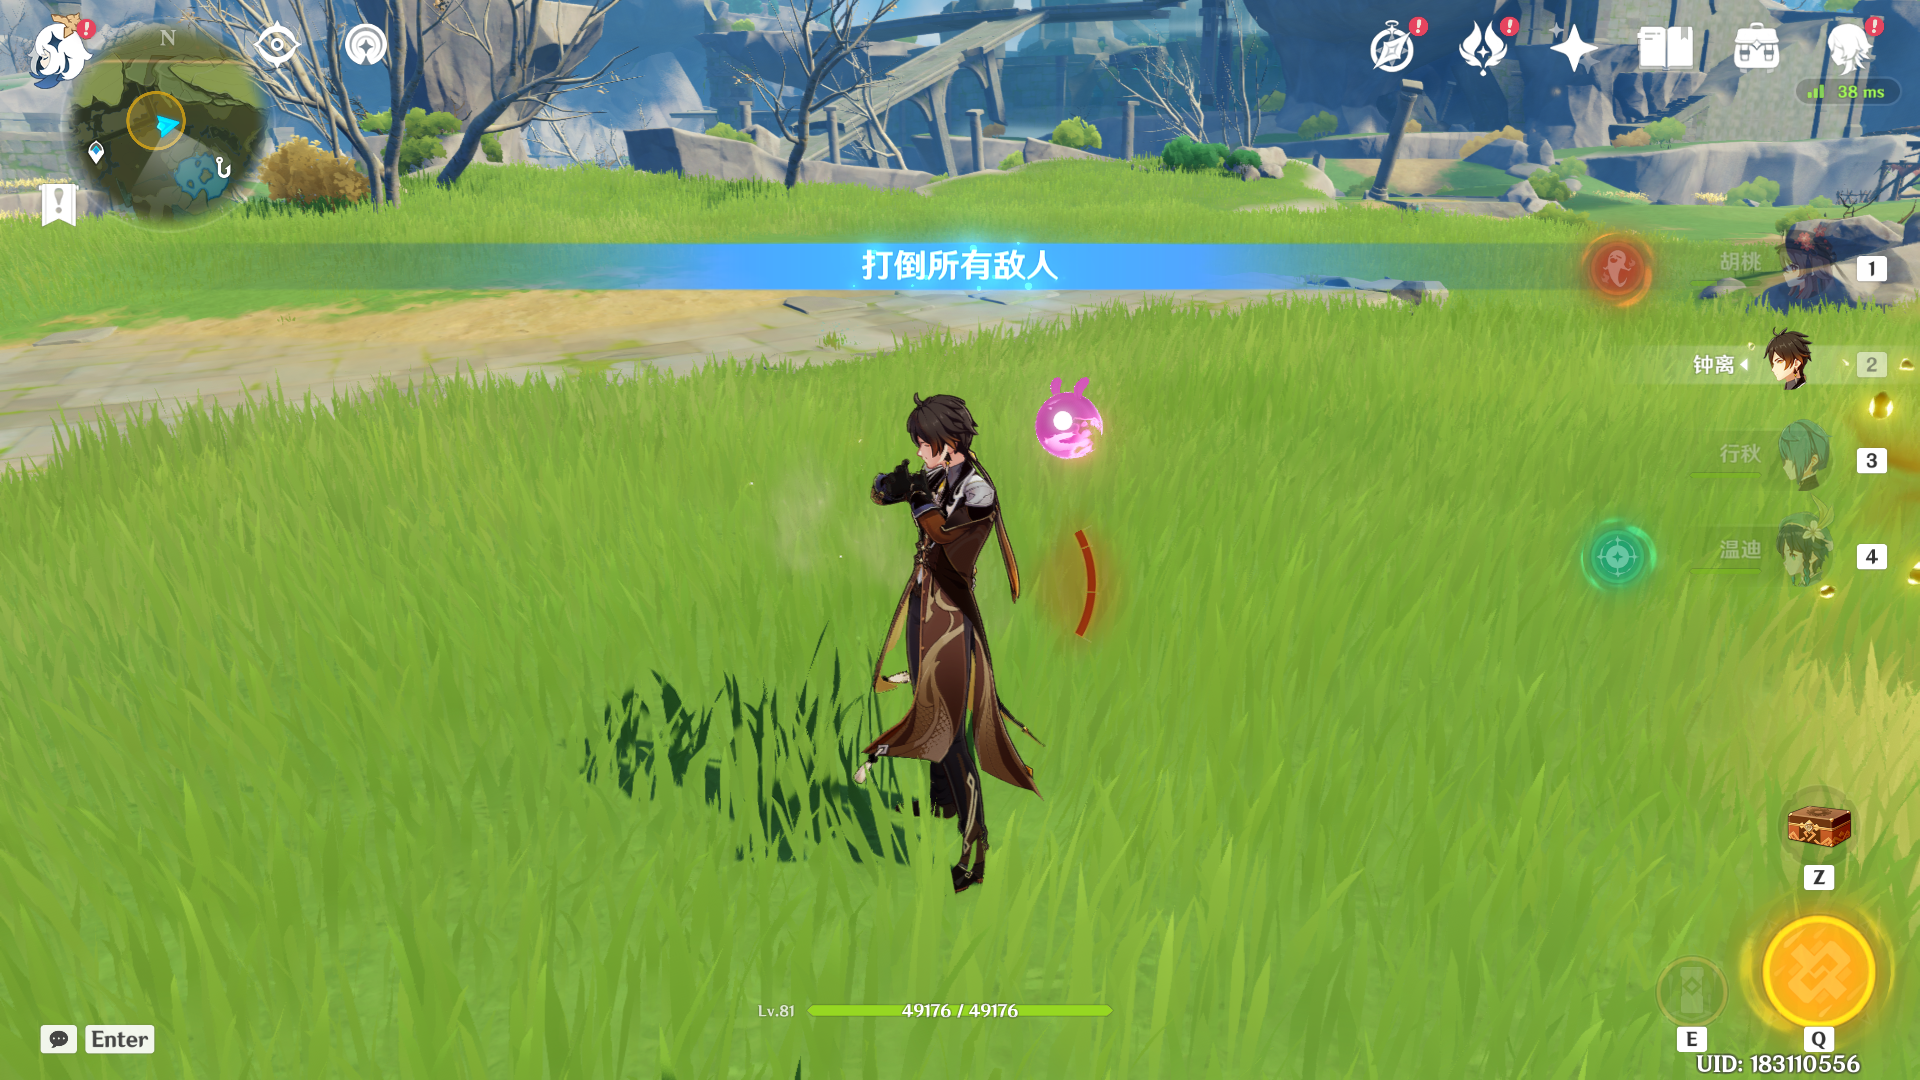character: (800, 384, 1149, 934)
